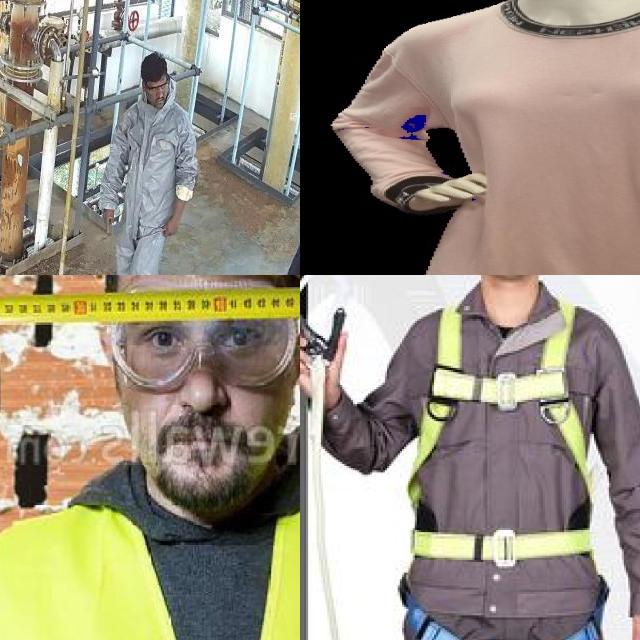Harness: (402, 297, 604, 640)
face_nomask: (142, 318, 272, 458), (147, 82, 171, 107)
glasses: (118, 286, 299, 392), (147, 80, 170, 96)
hand_noglove: (160, 214, 180, 240), (100, 206, 116, 234)
head_nohelmet: (138, 51, 168, 83)
person: (0, 275, 300, 640), (98, 51, 199, 275), (236, 136, 300, 275)
vest: (0, 470, 300, 640)
